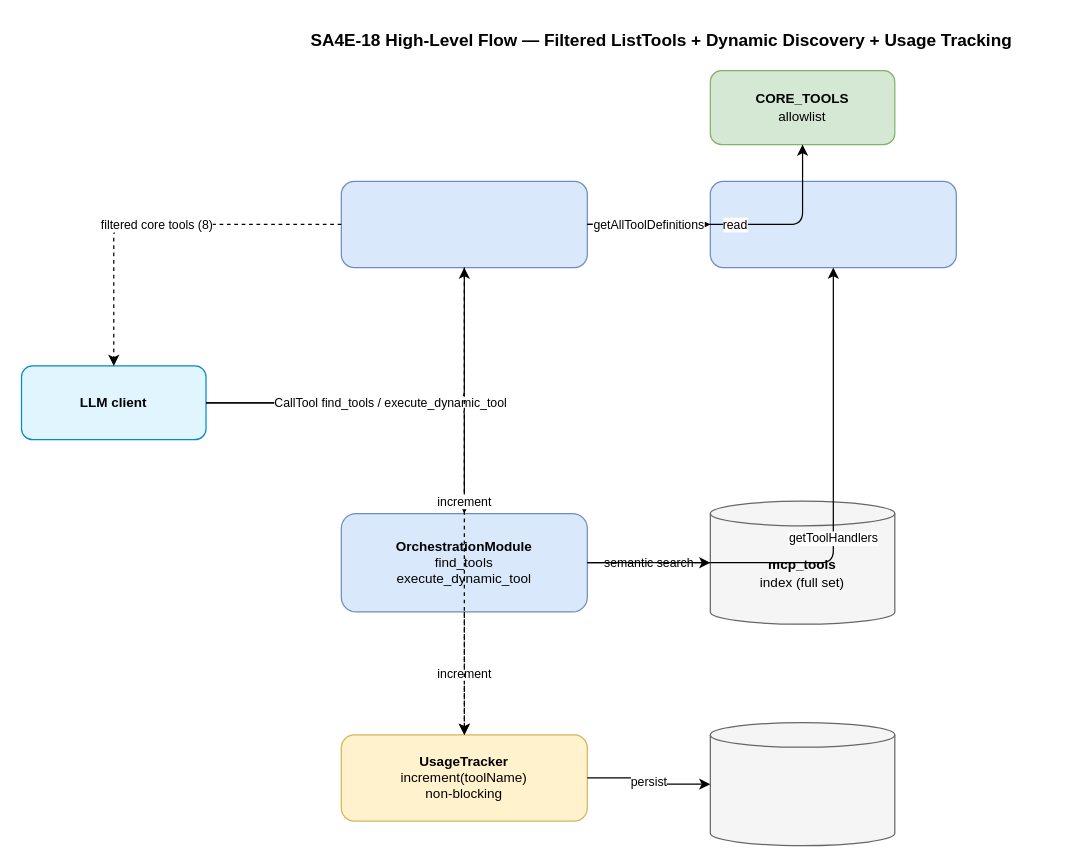
This 1076x867 diagram has some shape labels left out. Here are the shapes that lost their labels. From the top down, the centre of each, then its label:
At (x=463, y=224): "mcpServer ListToolsRequestSchema".
At (x=832, y=224): "ModuleRegistry getAllToolDefinitions() getToolHandlers()".
At (x=802, y=783): "Memory DB tool_usage".
